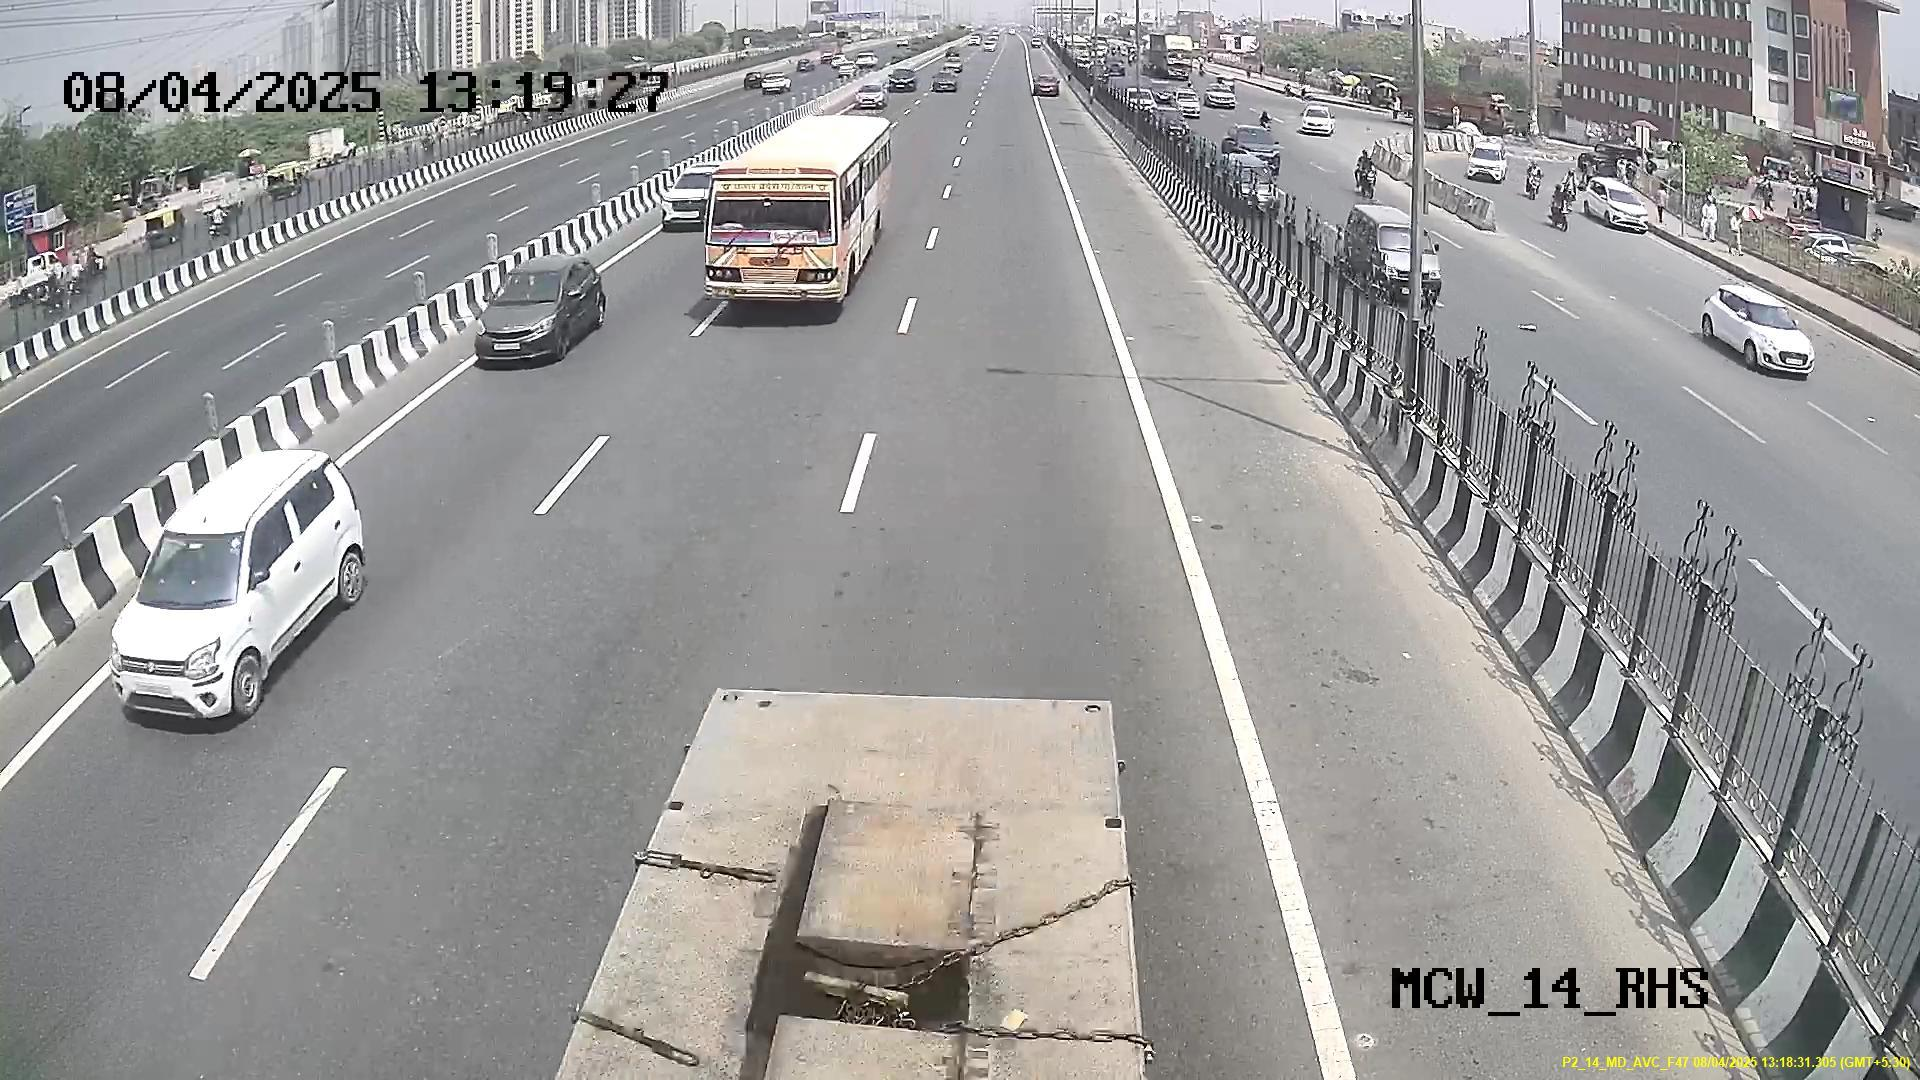bus: (702, 157, 860, 311)
car: (105, 492, 305, 729), (468, 261, 580, 364)
